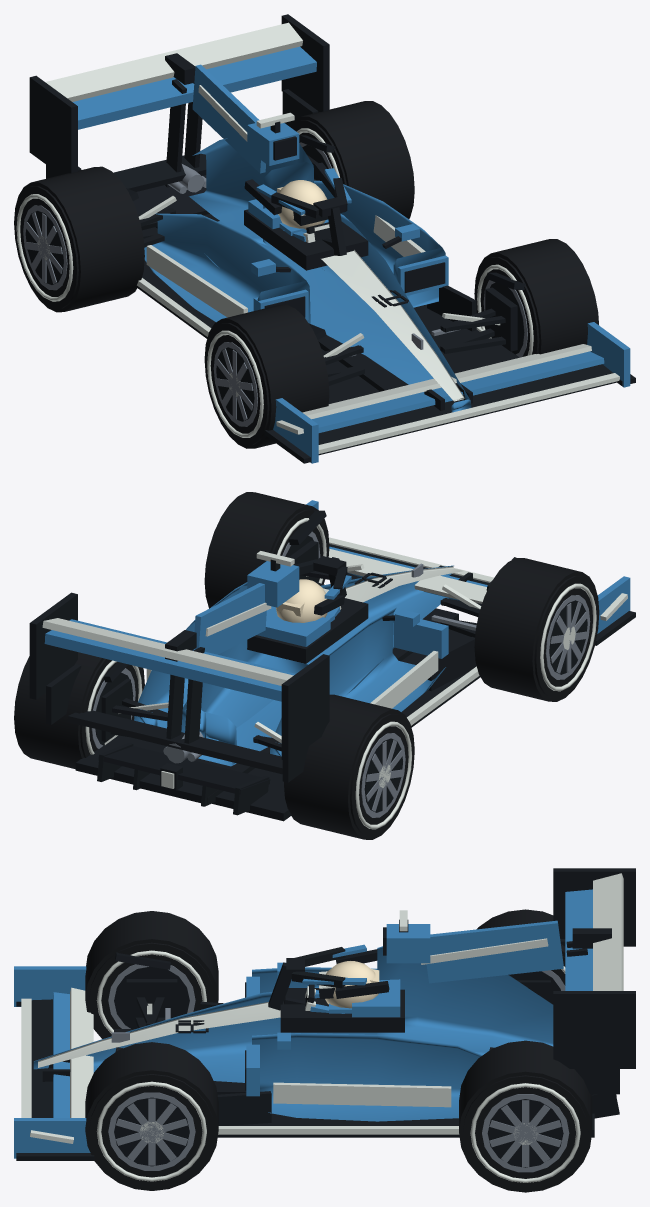
The model's file is azure-18.glb.
3 views of the same model, one above another, from view 1: azimuth 30°, elevation 25°; view 2: azimuth 150°, elevation 25°; view 3: azimuth 270°, elevation 25° (orthographic).
Visible parts, largest first — view 1: formula-18, wheel (×4); view 2: formula-18, wheel (×4); view 3: formula-18, wheel (×4).
Boxes of the visible parts, bbox=[...] form: formula-18: bbox=[29, 14, 635, 463]; wheel (×4): bbox=[14, 101, 598, 448]; formula-18: bbox=[29, 500, 635, 821]; wheel (×4): bbox=[14, 492, 599, 839]; formula-18: bbox=[14, 868, 635, 1160]; wheel (×4): bbox=[85, 909, 592, 1192].
Bounding box in the file's own units: 3.41 × 1.85 × 5.41.
